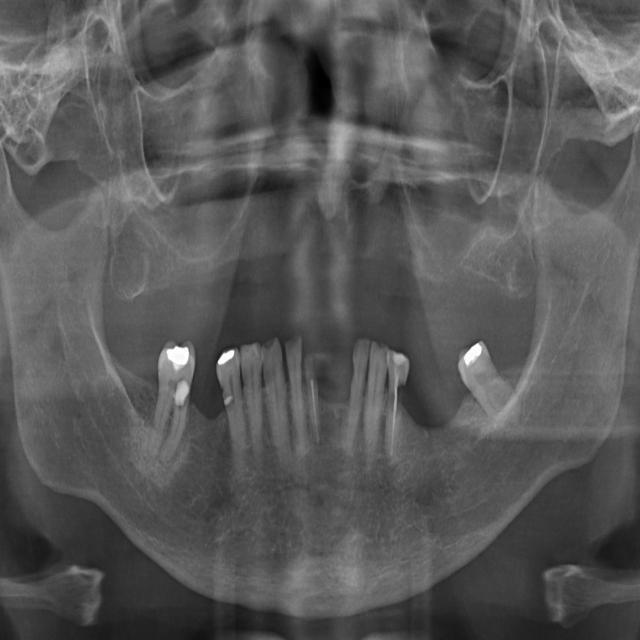Bicon Implant: (375, 346, 414, 472)
BioHorizons Implant: (354, 338, 392, 475)
BioLife Implant: (333, 333, 372, 467)
Blue Sky Bio Implant: (303, 349, 322, 451)
Camlog Implant: (282, 331, 311, 464)
Composite filling: (259, 335, 295, 477)
Cowellmedi Implant: (238, 339, 268, 479)
Crown: (212, 344, 253, 487)
Dentis Implant: (142, 331, 201, 471)
Neoss Implant: (438, 330, 541, 447)
